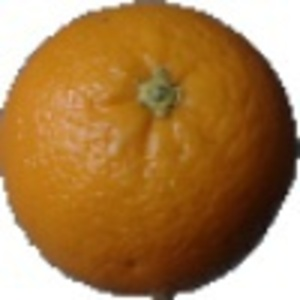laranja: (4, 3, 295, 298)
